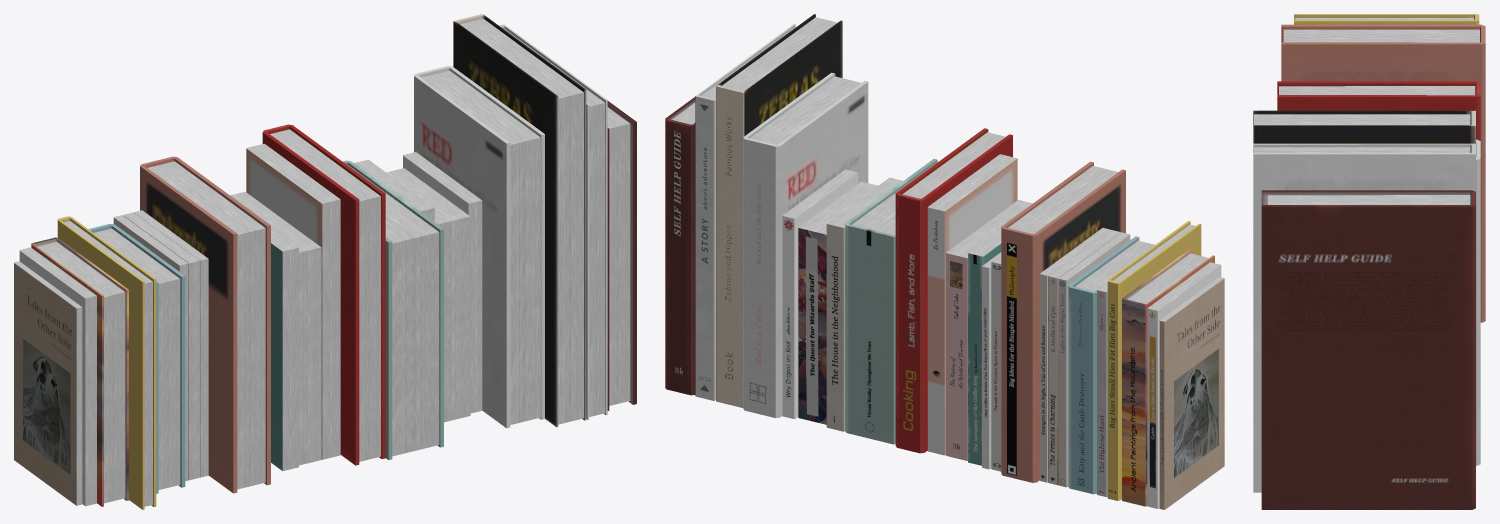
The model's file is books-user-v49.glb.
The picture shows the model from 3 angles, left to right: view 1: azimuth 30°, elevation 25°; view 2: azimuth 150°, elevation 25°; view 3: azimuth 270°, elevation 25°; orthographic projection. The views are drawn at different scales.
Visible parts, largest first — view 1: Cube_books_0; view 2: Cube_books_0; view 3: Cube_books_0.
Boxes of the visible parts, <box> form: Cube_books_0: <box>14,14,636,509</box>; Cube_books_0: <box>665,14,1224,509</box>; Cube_books_0: <box>1253,14,1485,509</box>.
Bounding box in the file's own units: 0.55 × 0.3312 × 0.1961.
Materials: 1 (1 with a texture image).
